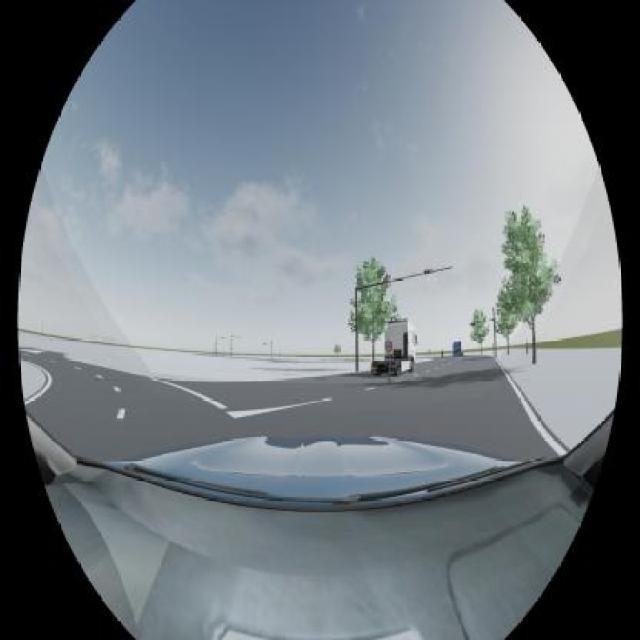forb_speed_over_60: (385, 340, 392, 352)
